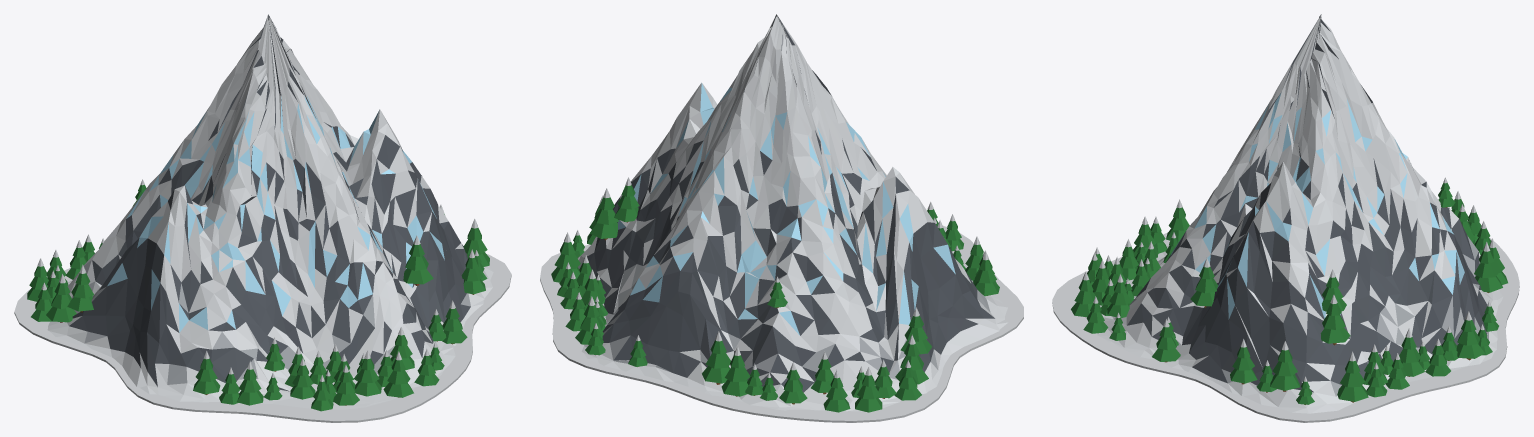
Rendered from snowy-mountain-peak.glb.
3 renders of one model, left to right at view 1: azimuth 30°, elevation 25°; view 2: azimuth 150°, elevation 25°; view 3: azimuth 270°, elevation 25°, orthographic. The views are drawn at different scales.
Visible parts, largest first — view 1: Mountain, Pines, SnowBase; view 2: Mountain, Pines, SnowBase; view 3: Mountain, Pines, SnowBase.
Boxes of the visible parts, x1,y1,x2,y2 form: Mountain: (47,14,493,409); Pines: (27,175,489,411); SnowBase: (14,254,511,422); Mountain: (577,14,1007,411); Pines: (551,177,999,412); SnowBase: (540,225,1023,422); Mountain: (1086,14,1503,413); Pines: (1071,177,1507,404); SnowBase: (1052,232,1519,422).
Bounding box in the file's own units: 231 × 156 × 222.
